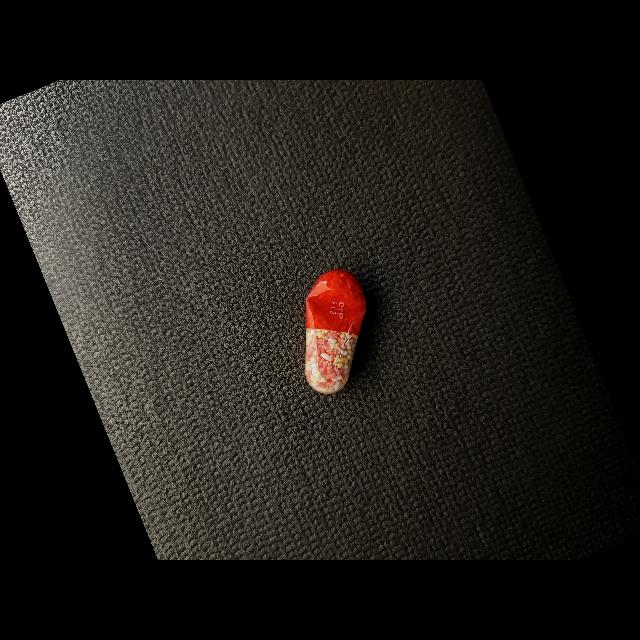Defective Capsule: (305, 270, 366, 394)
